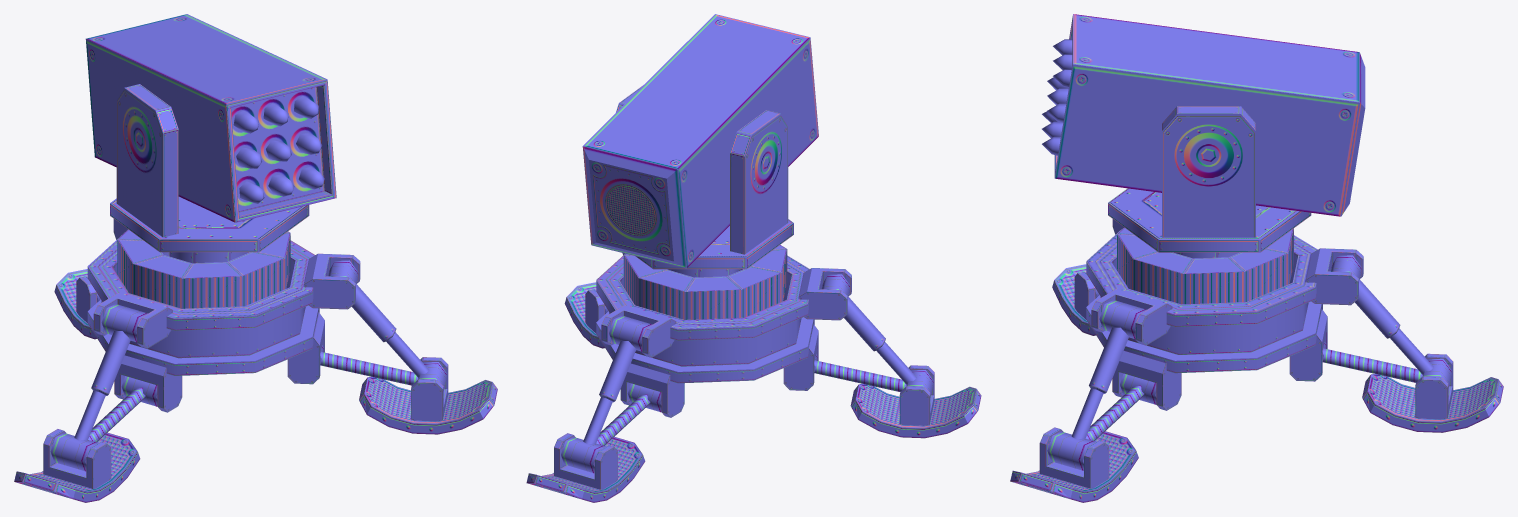
The model's file is TP1_RocketLauncher.FBX.
The picture shows the model from 3 angles, left to right: view 1: azimuth 30°, elevation 25°; view 2: azimuth 150°, elevation 25°; view 3: azimuth 270°, elevation 25°; orthographic projection. The views are drawn at different scales.
Parts seen in each view (by area): view 1: Base002; view 2: Base002; view 3: Base002.
Boxes of the visible parts, x1,y1,x2,y2 form: Base002: (14, 14, 497, 502); Base002: (526, 14, 981, 502); Base002: (1010, 14, 1503, 502).
Size of the model in its own units: 134 by 103 by 124.
